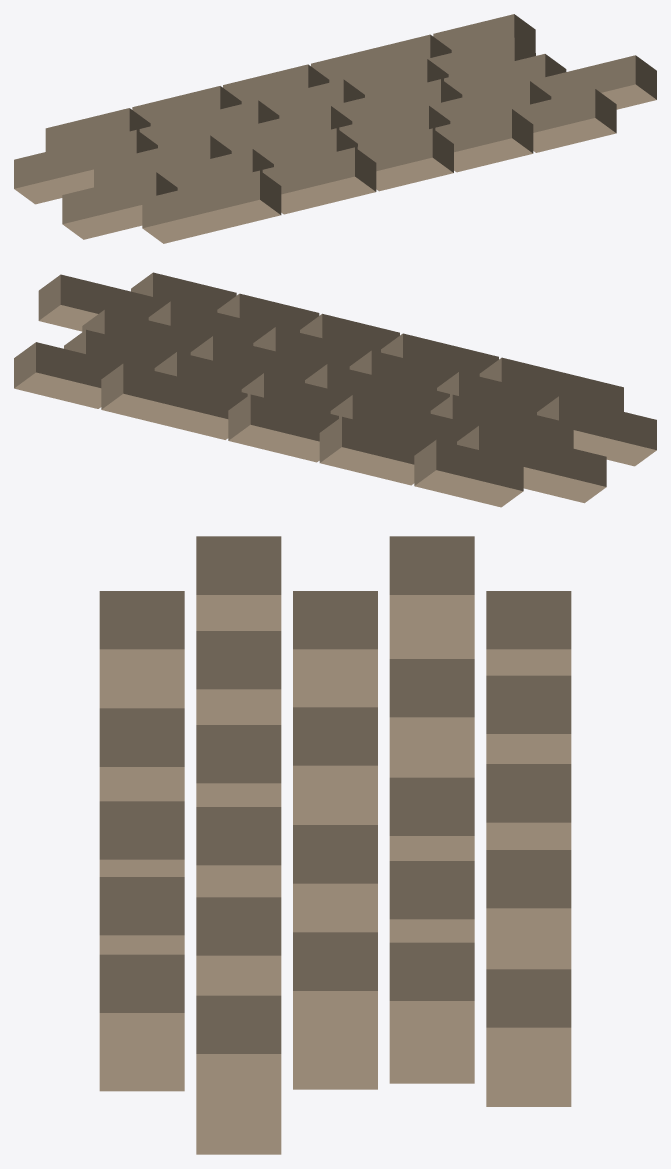
Rendered from town_wall_straight.glb.
3 views of the same model, one above another, from view 1: azimuth 30°, elevation 25°; view 2: azimuth 150°, elevation 25°; view 3: azimuth 270°, elevation 25° (orthographic). The views are drawn at different scales.
Parts seen in each view (by area): view 1: world; view 2: world; view 3: world.
Part boxes in pixels (x1,y1,x2,y2): world: (14, 14, 656, 243); world: (14, 272, 656, 507); world: (99, 536, 571, 1154).
Bounding box in the file's own units: 10.27 × 0.5 × 3.66.
